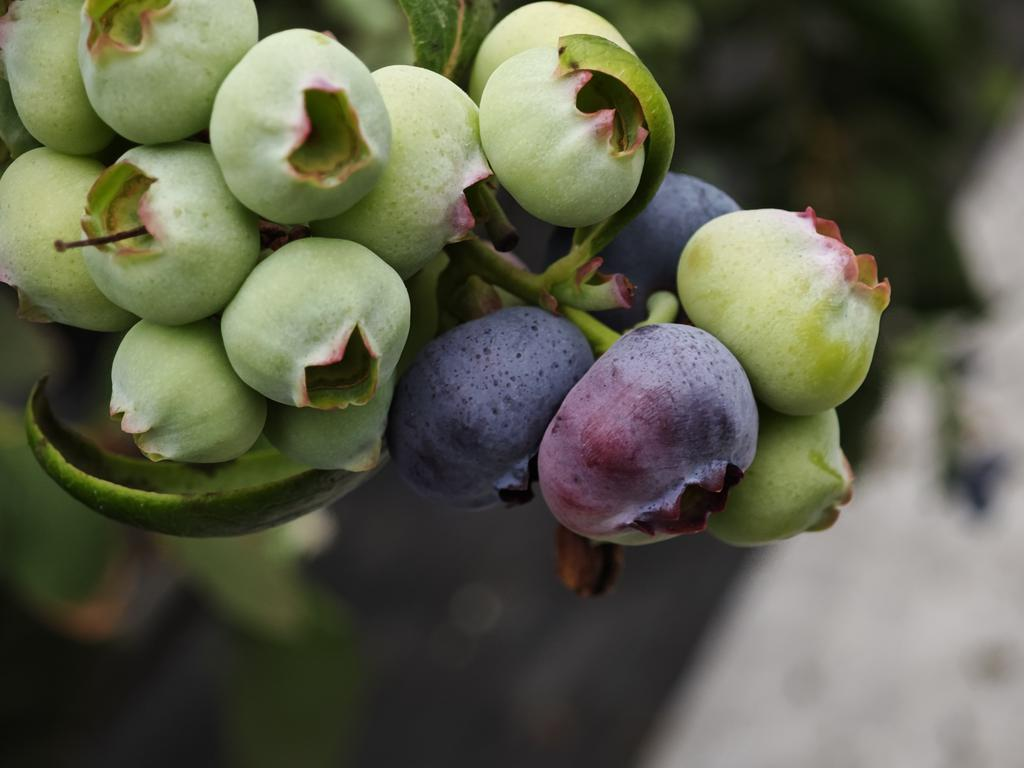Semi-RipeBlueBerry: (548, 322, 754, 549)
UnripeBlueBerry: (226, 228, 412, 417), (212, 26, 389, 217), (483, 44, 647, 223), (84, 147, 248, 317), (80, 0, 256, 139)
